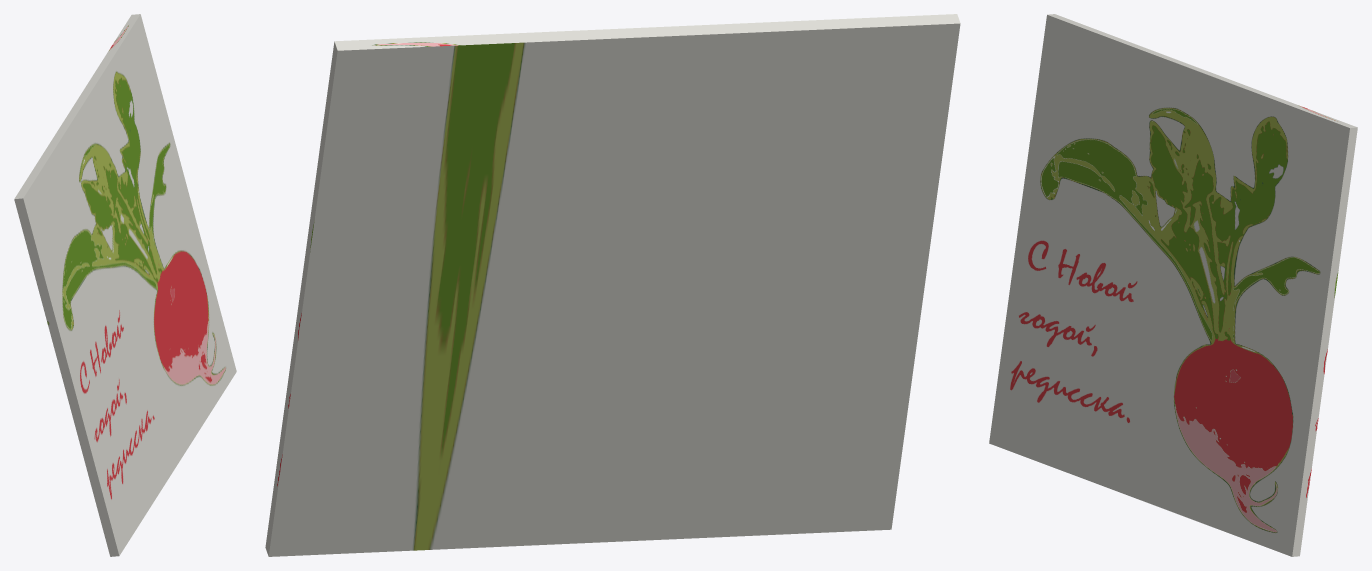
File: redisss.glb
3 renders of one model, left to right at view 1: azimuth 30°, elevation 25°; view 2: azimuth 150°, elevation 25°; view 3: azimuth 270°, elevation 25°, orthographic. The views are drawn at different scales.
Parts seen in each view (by area): view 1: Cube; view 2: Cube; view 3: Cube.
Part boxes in pixels (x1,y1,x2,y2): Cube: (14, 14, 236, 556); Cube: (265, 14, 960, 556); Cube: (989, 14, 1357, 556).
Size of the model in its own units: 1.89 by 2.07 by 1.66.
Materials: 1 (1 with a texture image).
